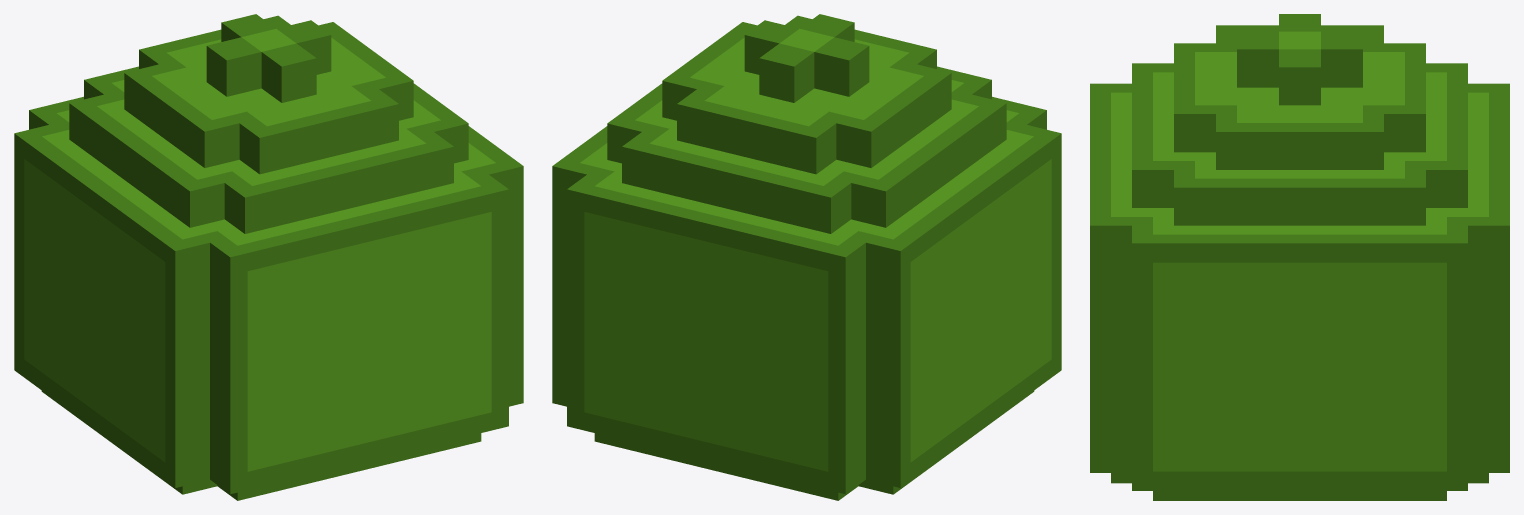
The model's file is bush.vox.obj.
The picture shows the model from 3 angles, left to right: view 1: azimuth 30°, elevation 25°; view 2: azimuth 150°, elevation 25°; view 3: azimuth 270°, elevation 25°; orthographic projection. The views are drawn at different scales.
Size of the model in its own units: 2 by 2 by 2.
1 material, 1 textured.
